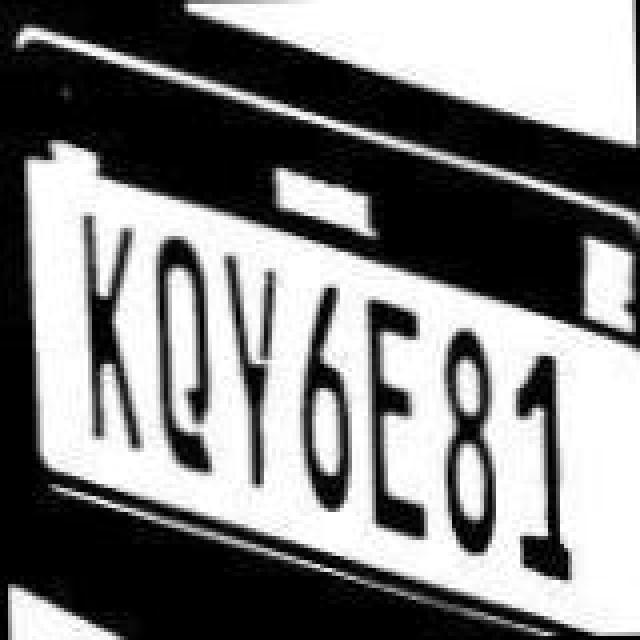1: (506, 352, 574, 584)
6: (292, 274, 356, 526)
8: (432, 322, 504, 562)
E: (358, 298, 434, 546)
K: (76, 196, 144, 468)
Q: (152, 228, 212, 480)
Y: (228, 246, 292, 518)
